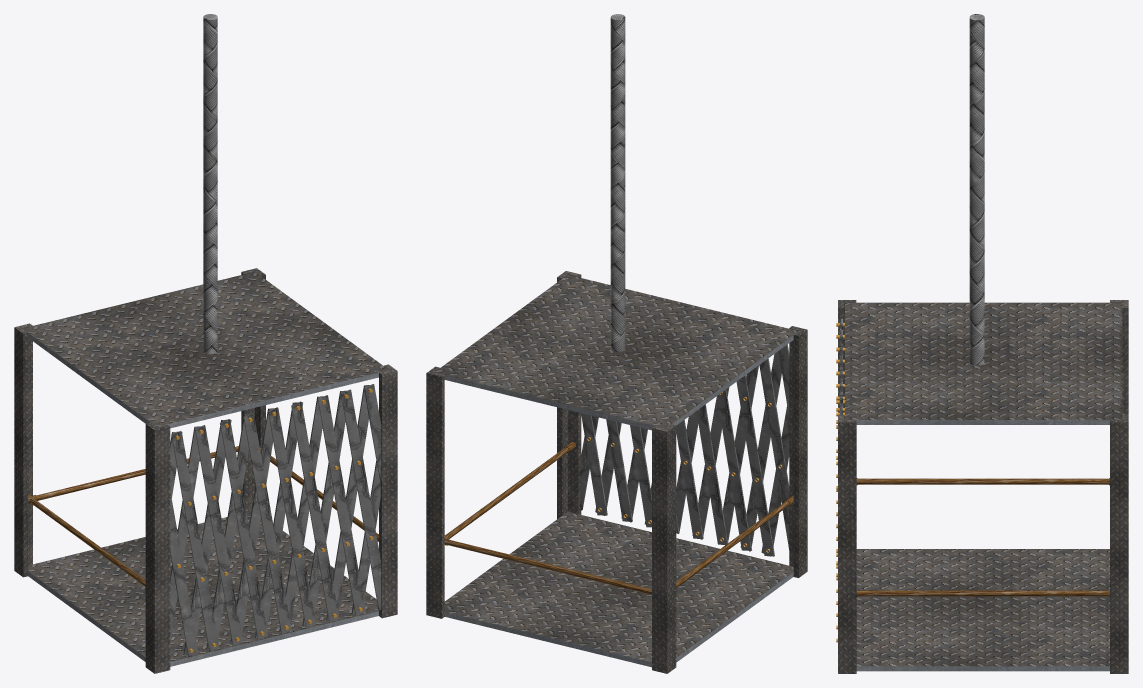
File: Elevator.fbx
The picture shows the model from 3 angles, left to right: view 1: azimuth 30°, elevation 25°; view 2: azimuth 150°, elevation 25°; view 3: azimuth 270°, elevation 25°; orthographic projection. The views are drawn at different scales.
Parts seen in each view (by area): view 1: Base; view 2: Base; view 3: Base.
Boxes of the visible parts, box(x1,y1,x2,y2) form: Base: box(14, 14, 397, 673); Base: box(426, 14, 807, 673); Base: box(836, 14, 1128, 673).
Bounding box in the file's own units: 157 × 356 × 158.
